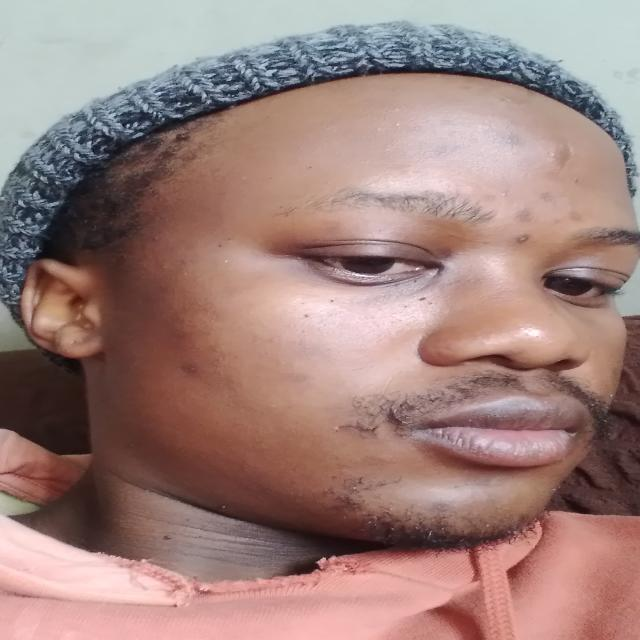Acne: (178, 359, 204, 377), (511, 206, 536, 224), (493, 132, 524, 146), (564, 208, 588, 225), (171, 317, 189, 338), (535, 189, 558, 204), (508, 234, 532, 246)
Eyebags: (286, 267, 442, 301)
